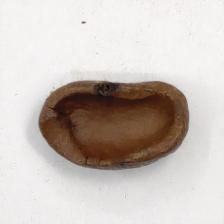NG: (39, 80, 189, 169)
